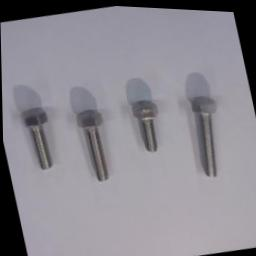Non-corroded-Bolts: (76, 108, 109, 181), (191, 94, 217, 175), (20, 106, 52, 170), (132, 98, 158, 150)
